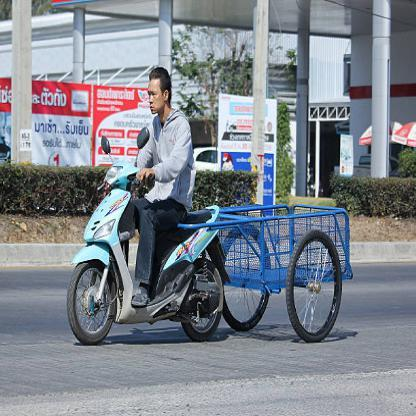Motorcycle: (63, 148, 159, 347)
